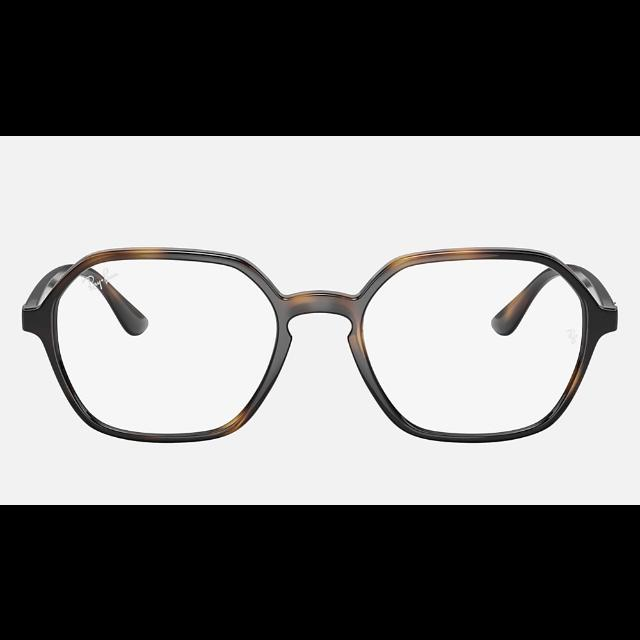glasses: (22, 246, 618, 440)
